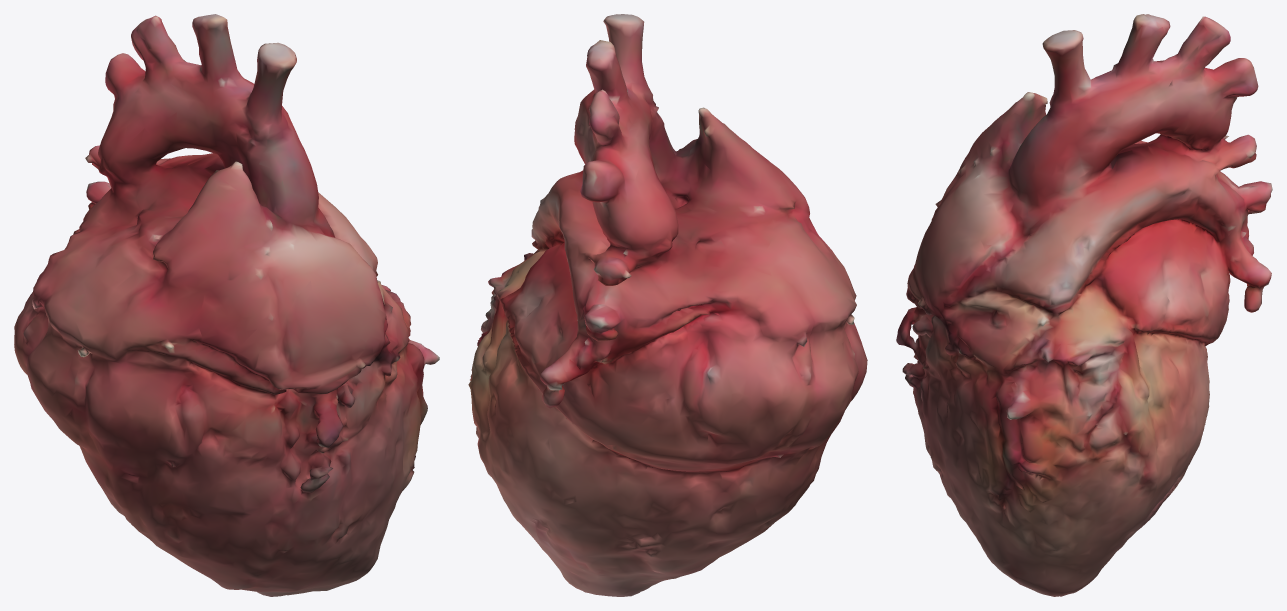
The model's file is heart_sculpture.glb.
3 views of the same model, side by side, from view 1: azimuth 30°, elevation 25°; view 2: azimuth 150°, elevation 25°; view 3: azimuth 270°, elevation 25° (orthographic). The views are drawn at different scales.
Visible parts, largest first — view 1: geometry_0; view 2: geometry_0; view 3: geometry_0.
Part boxes in pixels (<box>): geometry_0: <box>14,14,439,596</box>; geometry_0: <box>468,14,867,596</box>; geometry_0: <box>896,14,1272,596</box>.
Bounding box in the file's own units: 2.17 × 3.2 × 1.99.
